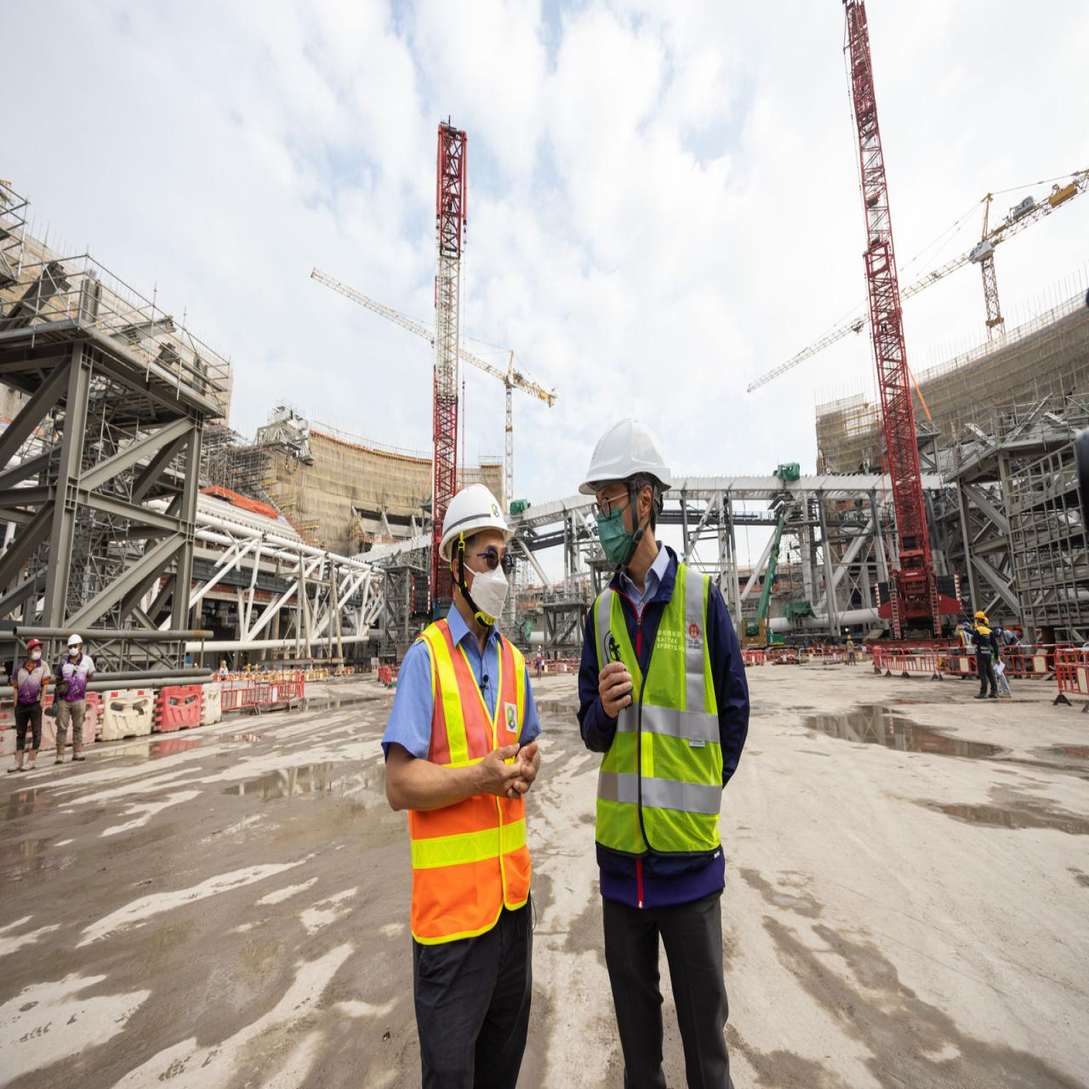Person: (567, 408, 762, 1089), (381, 465, 553, 1089)
Safety_Vest: (405, 627, 541, 953), (582, 574, 730, 862)
